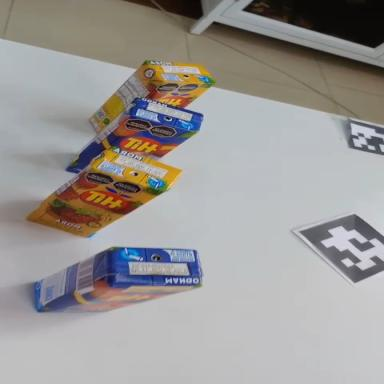HIT-MANGO: (26, 228, 206, 327), (55, 85, 209, 174)
HIT-MORA: (17, 120, 187, 259), (79, 43, 220, 133)
cara_F: (19, 142, 165, 261), (37, 263, 201, 331), (58, 105, 202, 176), (145, 81, 215, 110)
